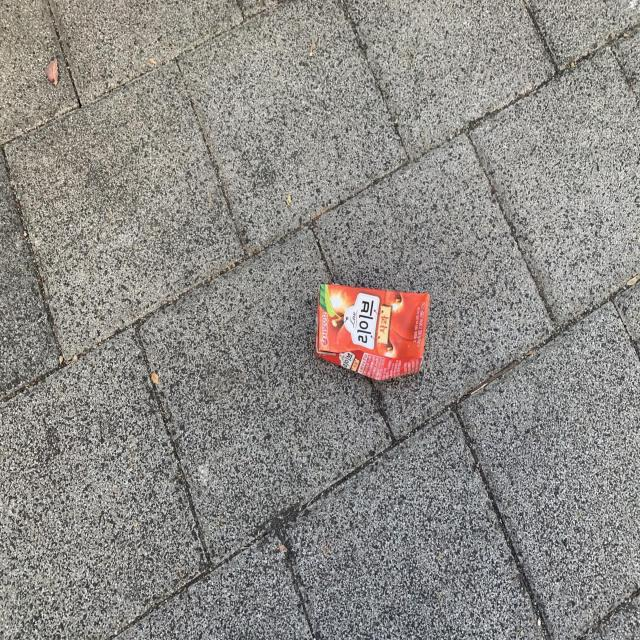paperpack: (316, 284, 431, 380)
